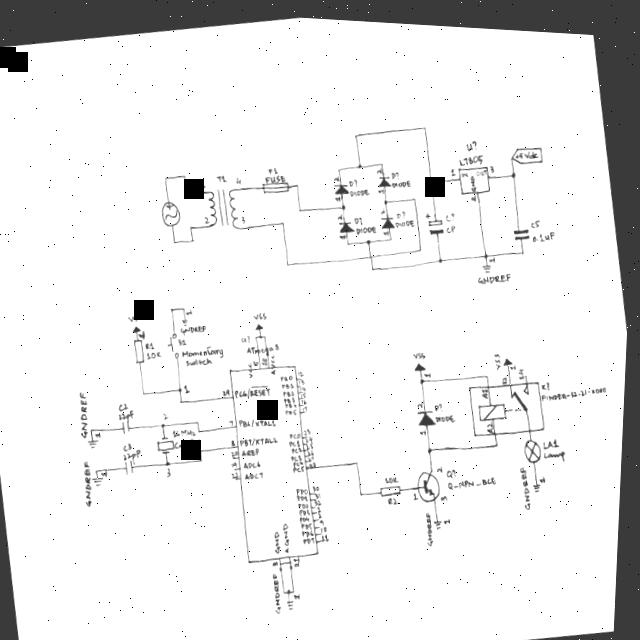capacitor: (426, 205, 446, 230), (513, 219, 531, 235), (127, 457, 138, 473), (124, 418, 134, 432)
crossover: (369, 247, 375, 254)
diode: (419, 403, 439, 421), (339, 215, 357, 229), (377, 169, 392, 183), (381, 210, 396, 224), (334, 178, 350, 190)
ground: (95, 474, 108, 485), (90, 436, 103, 447), (535, 474, 545, 486), (437, 512, 447, 524), (291, 595, 300, 607), (483, 257, 493, 267), (183, 315, 191, 323)
junction: (428, 170, 435, 180), (510, 164, 517, 172), (353, 127, 360, 135), (366, 232, 373, 240), (162, 419, 169, 427), (521, 241, 527, 249), (357, 454, 363, 462), (371, 260, 377, 267), (286, 256, 292, 263), (422, 118, 428, 125), (347, 235, 353, 242), (430, 441, 436, 447), (295, 177, 300, 184), (362, 485, 367, 492), (171, 303, 176, 310), (487, 366, 492, 373), (439, 251, 444, 257), (281, 216, 286, 222), (497, 435, 502, 441), (358, 158, 363, 164), (298, 203, 303, 209), (342, 199, 347, 205), (168, 458, 174, 463), (422, 372, 427, 377), (384, 194, 389, 199), (485, 246, 489, 252), (93, 426, 97, 432), (291, 584, 295, 590), (296, 584, 300, 590), (192, 235, 196, 240), (174, 237, 178, 242), (183, 171, 187, 176), (164, 173, 168, 178), (186, 188, 190, 193), (190, 222, 194, 227), (261, 330, 265, 335), (181, 384, 185, 389), (293, 555, 297, 560), (202, 446, 206, 450), (413, 191, 417, 195), (182, 397, 186, 401), (98, 467, 102, 471), (184, 303, 187, 308), (145, 389, 148, 393), (420, 242, 423, 246), (381, 157, 384, 161), (203, 455, 206, 459), (391, 232, 394, 236), (338, 163, 341, 167), (199, 417, 202, 421), (287, 586, 290, 590), (283, 558, 286, 562), (256, 332, 259, 335), (201, 427, 204, 430), (266, 331, 268, 335)
resistor: (135, 336, 148, 362), (383, 479, 405, 491)
source: (160, 196, 183, 225), (416, 356, 429, 366), (504, 350, 515, 359), (134, 323, 144, 331), (256, 319, 266, 327)
switch: (168, 328, 182, 356)
terminal: (511, 138, 544, 158)
text: (543, 378, 610, 395), (78, 388, 95, 441), (83, 451, 98, 506), (450, 469, 500, 485), (183, 341, 227, 359), (236, 379, 274, 397), (274, 563, 288, 611), (522, 458, 536, 503), (241, 411, 280, 427), (248, 338, 283, 354), (242, 430, 281, 444), (478, 265, 514, 280), (177, 434, 205, 452), (531, 221, 558, 237), (427, 506, 438, 541), (284, 517, 296, 549), (188, 353, 218, 365), (126, 446, 146, 463), (459, 147, 485, 160), (174, 423, 200, 436), (546, 441, 570, 455), (182, 321, 209, 333), (514, 142, 541, 153), (121, 406, 138, 421), (392, 173, 413, 185), (276, 525, 286, 550), (545, 430, 563, 443), (438, 407, 459, 418), (356, 220, 378, 230), (265, 170, 287, 180), (244, 443, 264, 454), (350, 183, 371, 193), (396, 213, 417, 223), (245, 456, 264, 466), (247, 467, 267, 476), (495, 345, 504, 364), (148, 347, 165, 357), (271, 350, 279, 371), (531, 211, 543, 223), (216, 169, 228, 181), (387, 469, 403, 478), (466, 133, 478, 145), (130, 311, 144, 321), (255, 308, 269, 318), (470, 168, 478, 185), (415, 345, 428, 355), (249, 357, 256, 375), (449, 462, 460, 473), (390, 490, 402, 500), (446, 218, 458, 228), (488, 413, 497, 426), (284, 377, 297, 386), (293, 449, 306, 458), (299, 482, 312, 491), (304, 517, 317, 526), (305, 524, 318, 533), (282, 370, 296, 378), (295, 461, 309, 469), (543, 373, 553, 384), (446, 206, 457, 216), (121, 400, 132, 410), (292, 434, 304, 443), (300, 489, 312, 498), (520, 360, 528, 373), (285, 385, 298, 393), (287, 404, 300, 412), (306, 532, 319, 540), (397, 205, 407, 215), (349, 173, 359, 183), (126, 440, 136, 450), (268, 162, 279, 171), (483, 381, 491, 393), (185, 380, 193, 392), (292, 427, 304, 435), (301, 497, 313, 505), (302, 504, 314, 512), (287, 398, 300, 405), (437, 396, 446, 406), (355, 211, 364, 221), (391, 165, 400, 175), (147, 339, 157, 348), (243, 331, 253, 340), (303, 511, 314, 519), (297, 552, 305, 563), (476, 162, 487, 170), (286, 392, 298, 399), (294, 442, 306, 449), (295, 456, 307, 463), (224, 384, 233, 393), (317, 493, 326, 502), (179, 335, 189, 343), (140, 327, 148, 337), (263, 352, 270, 363), (230, 414, 238, 423), (234, 467, 243, 475), (297, 588, 306, 596), (461, 164, 470, 172), (503, 367, 510, 377), (236, 172, 243, 182), (165, 408, 172, 418), (542, 468, 550, 476), (187, 305, 195, 313), (104, 468, 112, 476), (306, 423, 314, 431), (308, 431, 316, 439), (309, 438, 317, 446), (325, 529, 333, 537), (415, 485, 422, 494), (439, 458, 446, 467), (446, 511, 455, 518), (169, 465, 175, 475), (201, 176, 207, 186), (419, 395, 426, 403), (443, 488, 451, 495), (426, 365, 434, 372), (422, 422, 429, 430), (378, 182, 385, 190), (511, 357, 519, 364), (490, 249, 497, 257), (300, 365, 307, 373), (489, 158, 495, 167), (205, 212, 211, 221), (234, 446, 241, 453), (376, 162, 383, 169), (335, 191, 342, 198), (97, 429, 104, 436), (234, 457, 241, 464), (303, 387, 310, 394), (316, 480, 323, 487), (318, 488, 325, 495), (324, 521, 331, 528), (381, 202, 387, 210), (338, 208, 344, 216), (451, 162, 457, 170), (233, 435, 239, 443), (320, 500, 326, 508), (255, 355, 261, 363), (242, 212, 247, 221), (471, 188, 477, 195), (340, 229, 347, 235), (384, 224, 390, 231), (334, 170, 340, 177), (301, 374, 307, 381), (302, 381, 309, 387), (310, 445, 317, 451), (311, 451, 318, 457), (321, 507, 327, 514), (276, 556, 283, 562), (305, 401, 311, 407), (304, 394, 310, 400), (312, 457, 319, 462), (323, 514, 328, 521)
transformer: (202, 182, 245, 230)
transistor: (419, 463, 445, 497)
